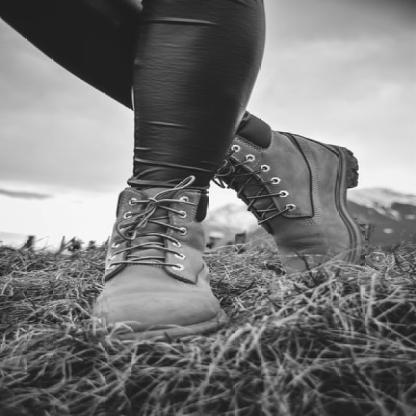ankle: (191, 229, 202, 238), (275, 141, 288, 147)
heel: (329, 147, 339, 153), (205, 273, 211, 280)
left_foot: (95, 191, 219, 341)
pinky: (203, 313, 215, 321), (291, 271, 300, 278)
right_foot: (226, 121, 364, 281)
toe: (105, 318, 116, 325), (331, 270, 340, 277)
